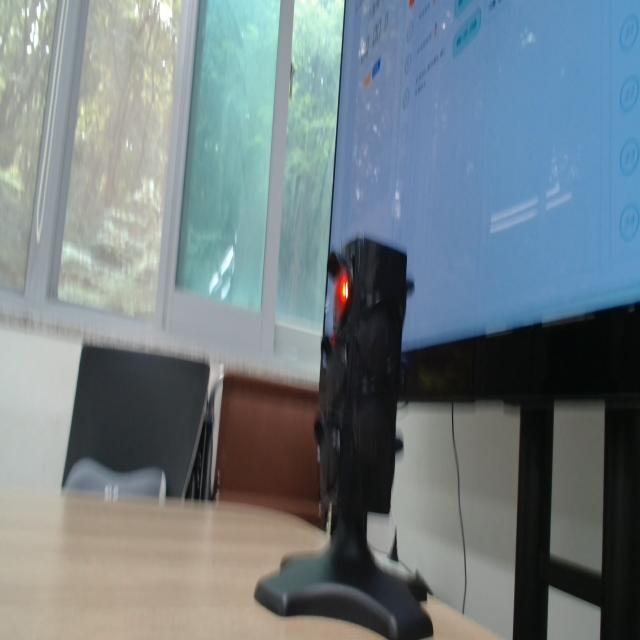red_light: (334, 271, 350, 323)
